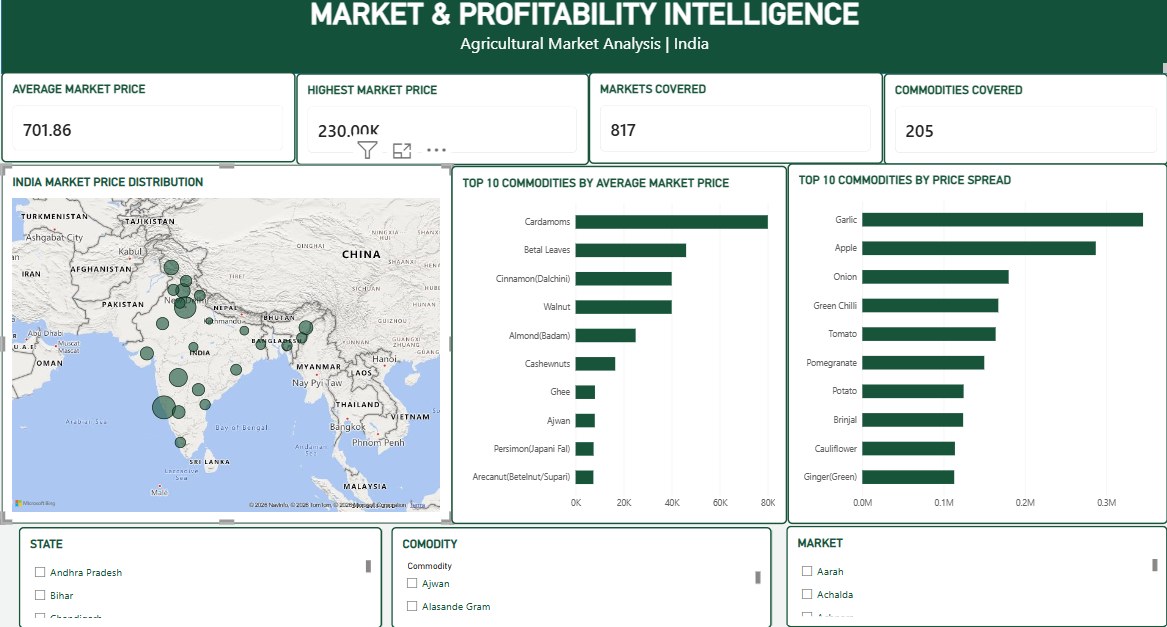

Layout of this report page (visuals, bound fields, positions):
{"tool":"powerbi","page":{"name":"Market Intelligence","canvas":[1920,1080],"ordinal":2},"visuals":[{"type":"shape","box":[10.3,0,1910.1,125.6],"z":0},{"type":"textbox","title":"MARKET & PROFITABILITY INTELLIGENCE","box":[9.6,0,1909.6,125],"z":1000},{"type":"cardVisual","title":"AVERAGE MARKET PRICE","fields":{"Data":["MandiPrices.Average Price Spread"]},"box":[10.3,123.5,481.6,148.2],"z":2000},{"type":"cardVisual","title":"HIGHEST MARKET PRICE","fields":{"Data":["MandiPrices.Maximum Market Price"]},"box":[491.9,125.6,479.6,150.3],"z":3000},{"type":"cardVisual","title":"MARKETS COVERED","fields":{"Data":["MandiPrices.Number of Markets"]},"box":[971.5,123.5,481.6,150.3],"z":4000},{"type":"cardVisual","title":"COMMODITIES COVERED","fields":{"Data":["MandiPrices.Number of Commodities"]},"box":[1453.2,125.6,467.2,150.3],"z":5000},{"type":"map","title":"INDIA MARKET PRICE DISTRIBUTION","fields":{"Category":["MandiPrices.State"],"Size":["MandiPrices.Average Price Spread"]},"box":[10,274,738,588],"z":6000},{"type":"clusteredBarChart","title":"TOP 10 COMMODITIES BY AVERAGE MARKET PRICE","fields":{"Category":["MandiPrices.Commodity"],"Y":["MandiPrices.Average Price Spread"]},"box":[747.2,275.8,549.6,586.6],"z":7000},{"type":"clusteredBarChart","title":"TOP 10 COMMODITIES BY PRICE SPREAD","fields":{"Category":["MandiPrices.Commodity"],"Y":["Sum(MandiPrices.Price_Spread)"]},"box":[1296.7,271.7,623.7,590.7],"z":8000},{"type":"slicer","title":"STATE","fields":{"Values":["MandiPrices.State"]},"box":[38.5,867.3,594,168],"z":9000},{"type":"slicer","title":"COMODITY","fields":{"Values":["MandiPrices.Commodity"]},"box":[648.4,866.6,622,168],"z":10000},{"type":"slicer","title":"MARKET","fields":{"Values":["MandiPrices.Market"]},"box":[1294.6,865.1,625.8,167.7],"z":11000}]}

Visuals, with their boxes on the page's 1920x1080 design canvas (x1, y1, x2, y2). These are canvas units, not pixel positions in the 1167x627 screenshot, which may show the page scaled, cropped or inside an application window:
shape: left=10, top=0, right=1920, bottom=126
"MARKET & PROFITABILITY INTELLIGENCE" textbox: left=10, top=0, right=1919, bottom=125
"AVERAGE MARKET PRICE" cardVisual: left=10, top=124, right=492, bottom=272
"HIGHEST MARKET PRICE" cardVisual: left=492, top=126, right=972, bottom=276
"MARKETS COVERED" cardVisual: left=972, top=124, right=1453, bottom=274
"COMMODITIES COVERED" cardVisual: left=1453, top=126, right=1920, bottom=276
"INDIA MARKET PRICE DISTRIBUTION" map: left=10, top=274, right=748, bottom=862
"TOP 10 COMMODITIES BY AVERAGE MARKET PRICE" clusteredBarChart: left=747, top=276, right=1297, bottom=862
"TOP 10 COMMODITIES BY PRICE SPREAD" clusteredBarChart: left=1297, top=272, right=1920, bottom=862
"STATE" slicer: left=38, top=867, right=632, bottom=1035
"COMODITY" slicer: left=648, top=867, right=1270, bottom=1035
"MARKET" slicer: left=1295, top=865, right=1920, bottom=1033
